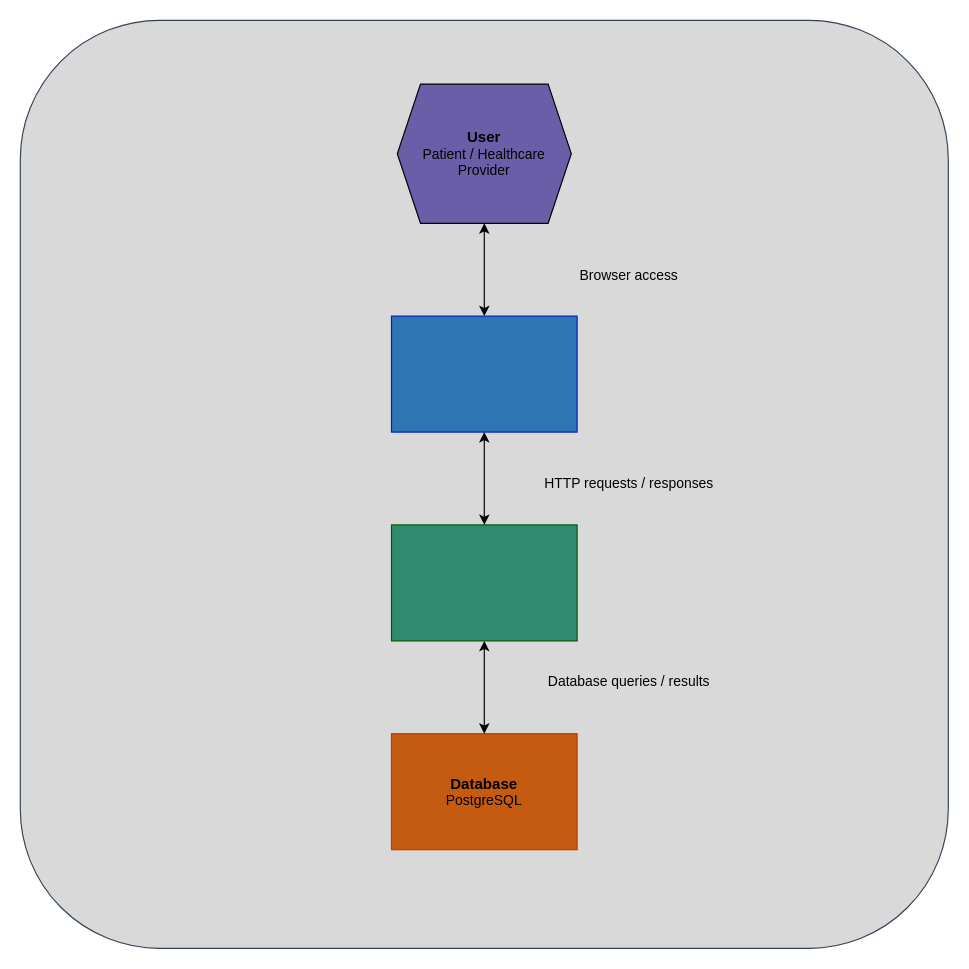
This 969x969 diagram has some shape labels left out. The centre of each missing label's shape, as x and y in pixels:
"Application Server Python/Django" goes at [483,582].
"Frontend HTML, CSS, JavaScript" goes at [483,373].
